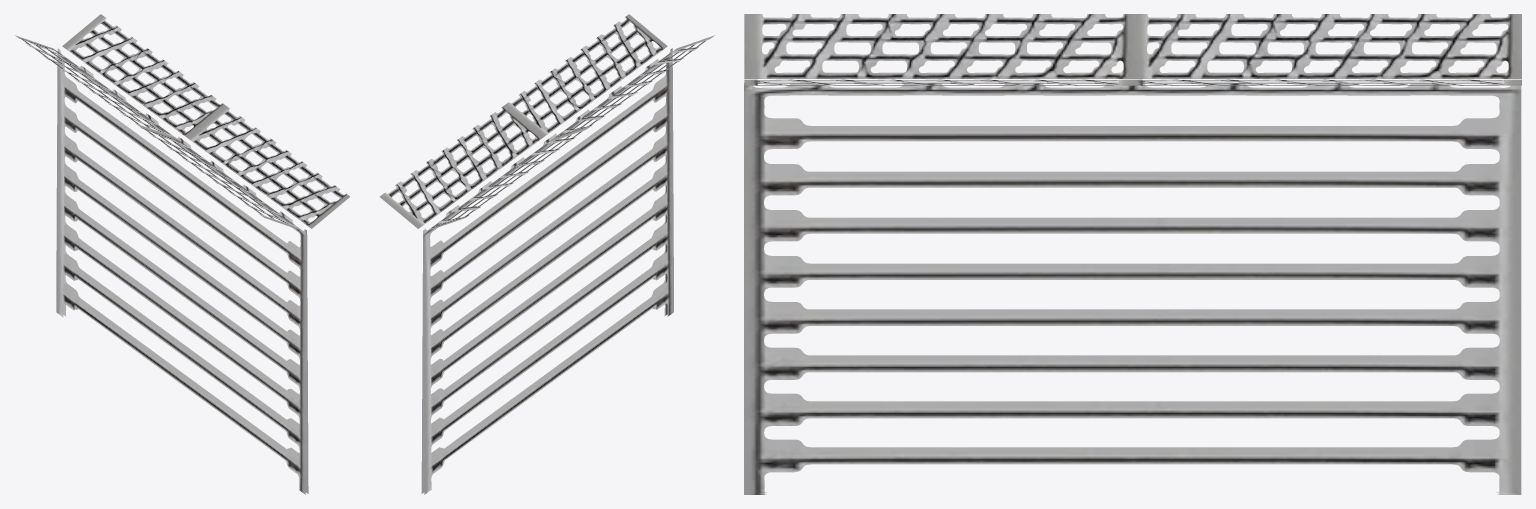
File: razorwirefence_hdtex.glb
3 views of the same model, side by side, from view 1: azimuth 30°, elevation 25°; view 2: azimuth 150°, elevation 25°; view 3: azimuth 270°, elevation 25° (orthographic). The views are drawn at different scales.
Visible parts, largest first — view 1: Mesh01; view 2: Mesh01; view 3: Mesh01.
Part boxes in pixels (x1,y1,x2,y2): Mesh01: [15, 14, 350, 494]; Mesh01: [379, 14, 714, 494]; Mesh01: [744, 14, 1521, 494].
Bounding box in the file's own units: 1.72 × 5.47 × 8.62.
1 material, 1 textured.
